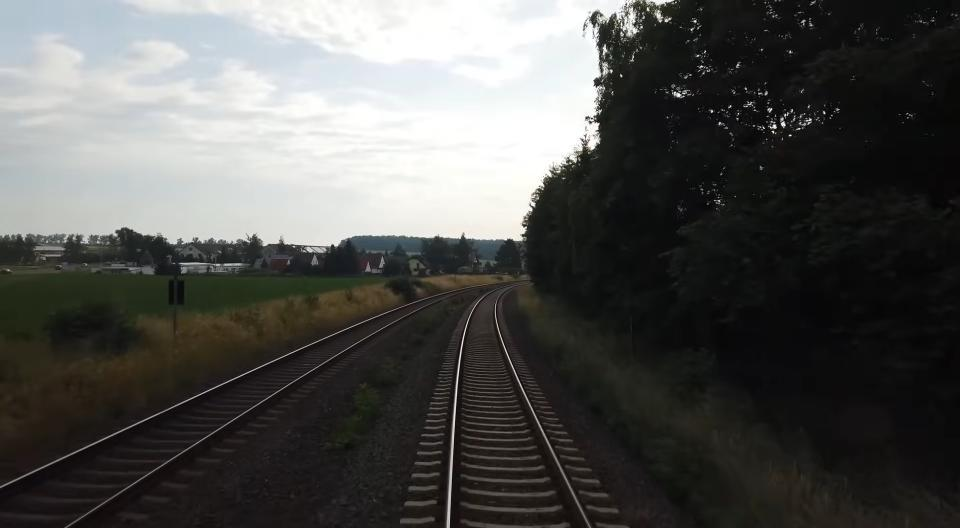Plant: (332, 382, 384, 449), (365, 359, 404, 389)
